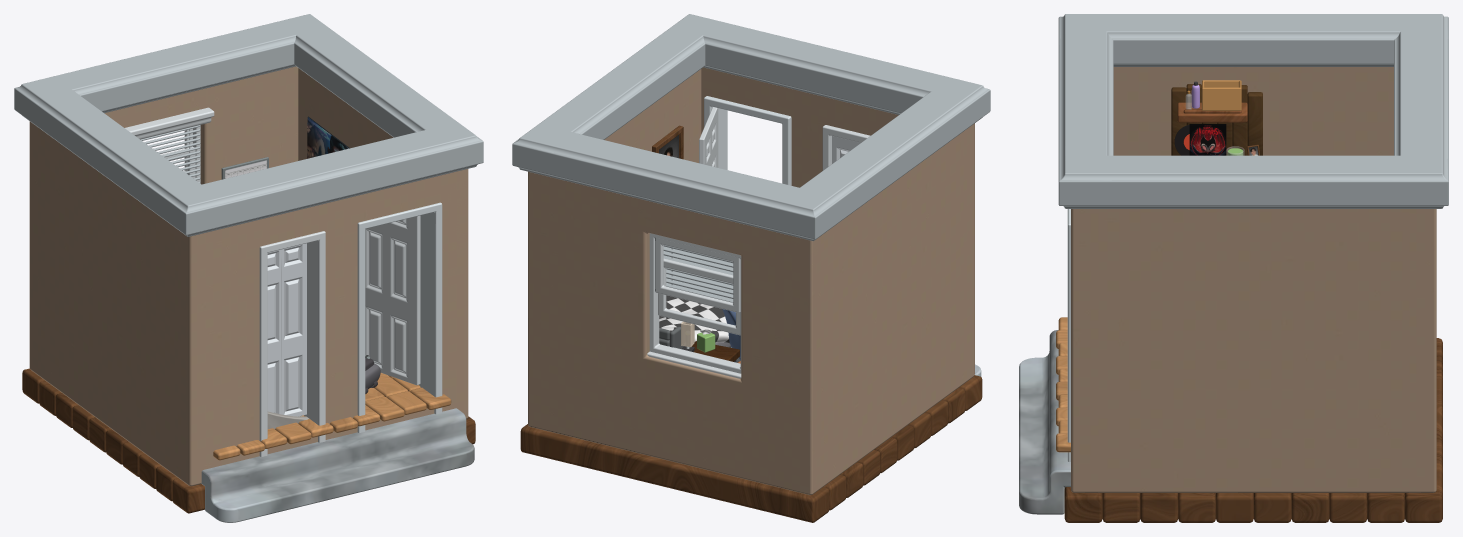
Rendered from isometric-room.glb.
The picture shows the model from 3 angles, left to right: view 1: azimuth 30°, elevation 25°; view 2: azimuth 150°, elevation 25°; view 3: azimuth 270°, elevation 25°; orthographic projection. The views are drawn at different scales.
Visible parts, largest first — view 1: Closet Wall, Desk Wall, Marble foundation, Closet Wall Ceiling, Window Wall, Window Wall Ceiling, Desk Wall Ceiling, Bed Wall Ceiling, Door, Door Frame, Closet Doors, Closet Door Frame (+8 smaller); view 2: Window Wall, Desk Wall, Window Wall Ceiling, Wood Foundation, Closet Wall Ceiling, Desk Wall Ceiling, Closet Wall, Bed Wall Ceiling, Window, Bed Wall, Curtain, Door Frame (+4 smaller); view 3: Bed Wall, Bed Wall Ceiling, Desk Wall, Desk Wall Ceiling, Wood Foundation, Window Wall Ceiling, Closet Wall Ceiling, Closet Wall, Window Wall, Marble foundation, Wall Shelf Backboard, Vinyl Cover 1 (+4 smaller).
Boxes of the visible parts, x1,y1,x2,y2 form: Closet Wall: [178, 169, 468, 486]; Desk Wall: [30, 129, 188, 485]; Marble foundation: [201, 408, 474, 522]; Closet Wall Ceiling: [162, 123, 483, 236]; Window Wall: [29, 66, 298, 376]; Window Wall Ceiling: [17, 14, 326, 113]; Desk Wall Ceiling: [14, 76, 225, 236]; Bed Wall Ceiling: [279, 14, 483, 173]; Door: [365, 215, 420, 385]; Door Frame: [357, 202, 442, 432]; Closet Doors: [267, 243, 306, 416]; Closet Door Frame: [259, 231, 325, 456]; Window Wall: [530, 172, 823, 495]; Desk Wall: [790, 132, 963, 494]; Window Wall Ceiling: [513, 124, 837, 240]; Wood Foundation: [520, 375, 982, 522]; Closet Wall Ceiling: [674, 14, 990, 129]; Desk Wall Ceiling: [774, 78, 990, 241]; Closet Wall: [701, 67, 974, 384]; Bed Wall Ceiling: [512, 14, 720, 176]; Window: [647, 233, 741, 378]; Bed Wall: [528, 69, 701, 431]; Curtain: [663, 245, 733, 302]; Door Frame: [704, 96, 791, 185]; Bed Wall: [1071, 209, 1436, 492]; Bed Wall Ceiling: [1058, 155, 1448, 208]; Desk Wall: [1113, 67, 1393, 155]; Desk Wall Ceiling: [1060, 14, 1448, 66]; Wood Foundation: [1064, 338, 1442, 522]; Window Wall Ceiling: [1394, 14, 1448, 208]; Closet Wall Ceiling: [1058, 14, 1113, 208]; Closet Wall: [1071, 209, 1098, 492]; Window Wall: [1409, 209, 1433, 492]; Marble foundation: [1019, 330, 1070, 514]; Wall Shelf Backboard: [1171, 84, 1262, 155]; Vinyl Cover 1: [1174, 124, 1226, 155].
Size of the model in its own units: 12.8 by 12.7 by 14.1.
34 materials, 28 textured.
